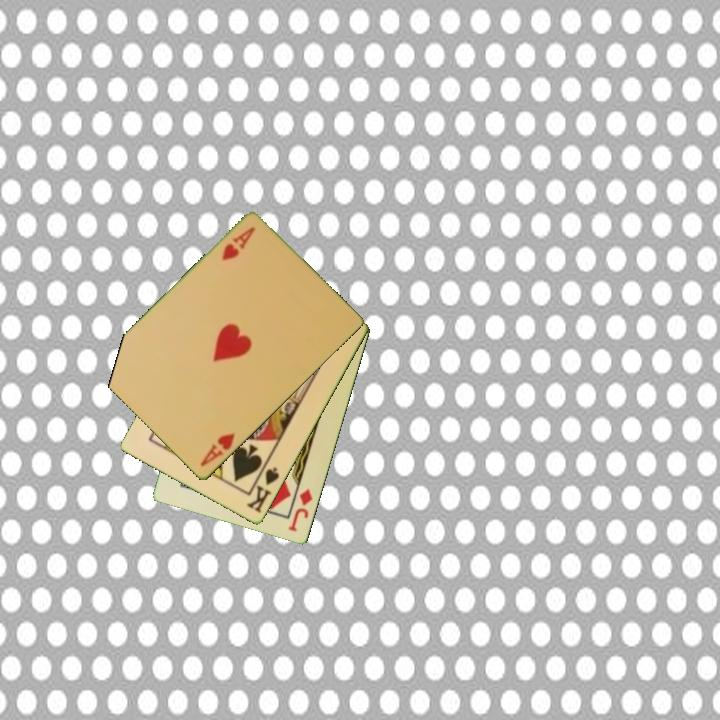Ah: (197, 430, 238, 470), (218, 224, 258, 264)
Jd: (285, 486, 316, 535)
Ks: (243, 464, 282, 516)
